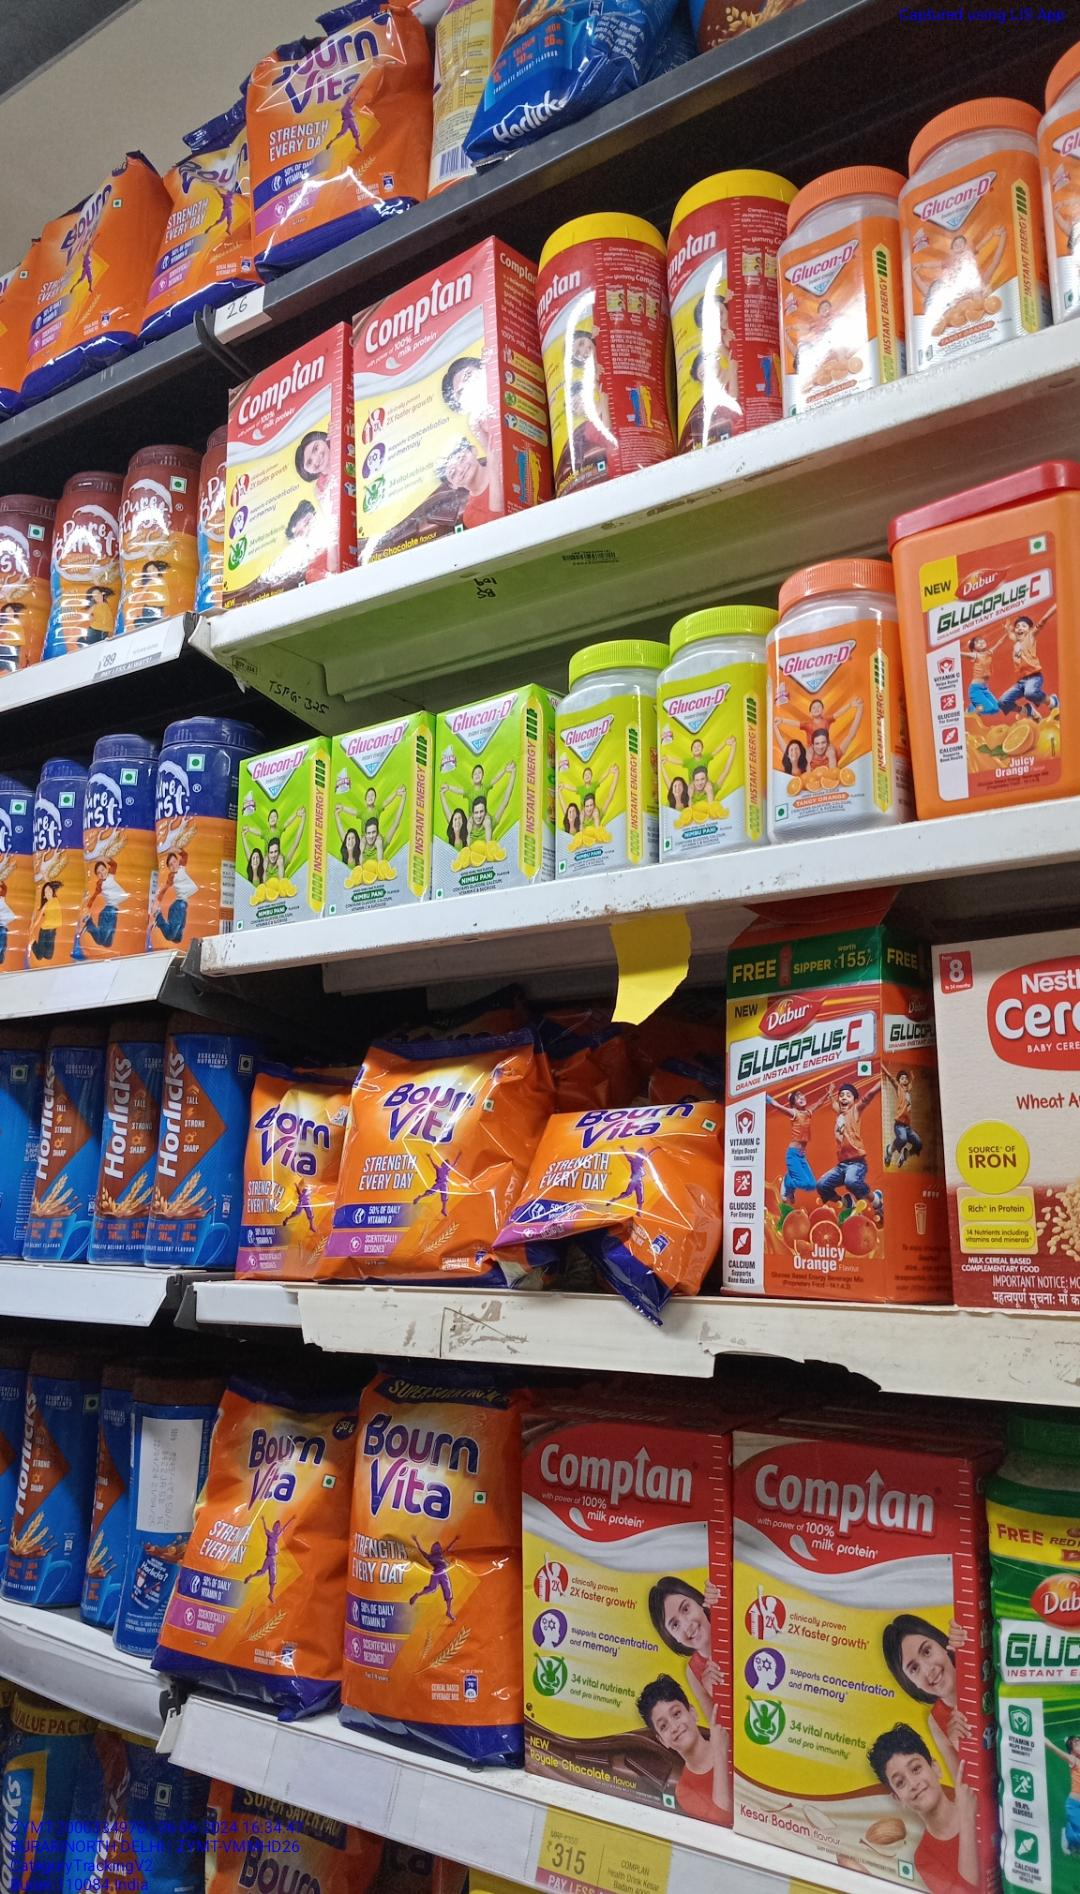BOURN_VITA_1_KG_POUCH: (346, 1375, 518, 1768)
BOURN_VITA_750_G_POUCH: (178, 1381, 334, 1708), (346, 1042, 524, 1296), (247, 8, 396, 251), (155, 1013, 241, 1268)
